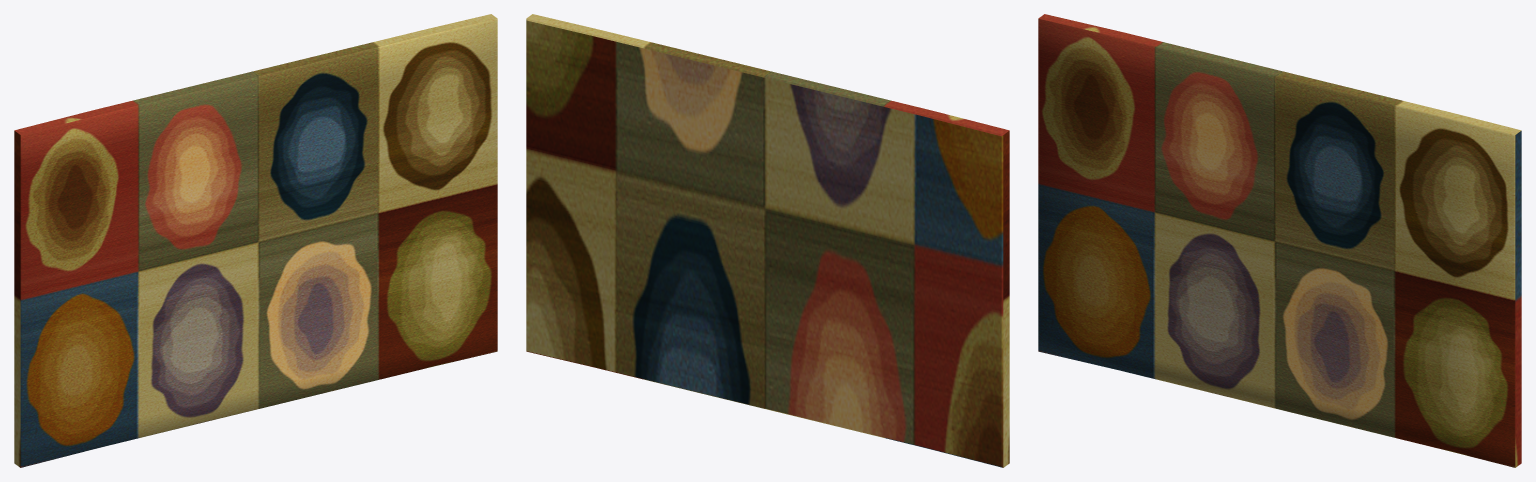
File: ArtP-RtMtU.fbx
3 renders of one model, left to right at view 1: azimuth 30°, elevation 25°; view 2: azimuth 150°, elevation 25°; view 3: azimuth 330°, elevation 25°, orthographic.
Visible parts, largest first — view 1: ArtP_Eggs; view 2: ArtP_Eggs; view 3: ArtP_Eggs.
Boxes of the visible parts, x1=… form: ArtP_Eggs: x1=14, y1=14, x2=497, y2=467; ArtP_Eggs: x1=526, y1=14, x2=1009, y2=467; ArtP_Eggs: x1=1038, y1=14, x2=1521, y2=467.
Bounding box in the file's own units: 137 × 91.69 × 3.81.
